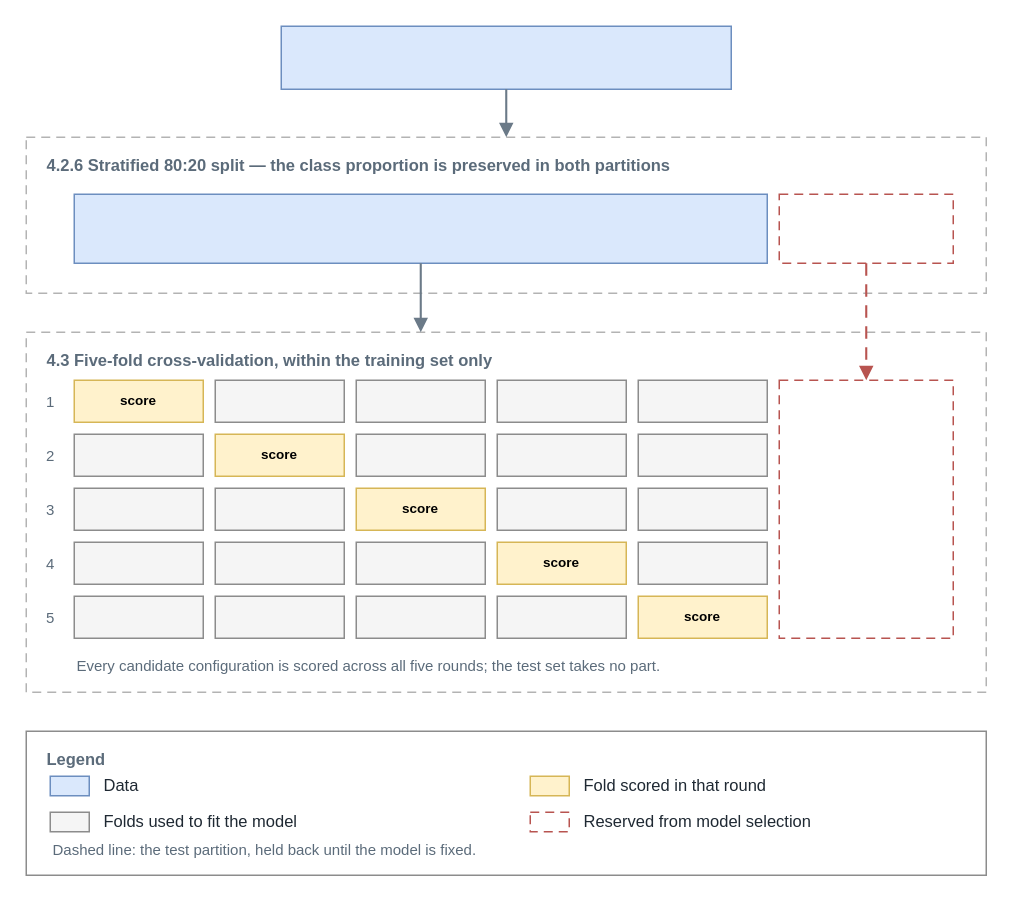
The diagram is 1013 pixels wide and 902 high, and some of its shapes have lost their labels. Here are the shapes that lost their labels. From the top down, the centre of each, then its label:
At (x=505, y=57): "Cleaned dataset after the steps in 4.2".
At (x=420, y=228): "Training set (80%) all model selection happens here".
At (x=865, y=228): "Test set (20%)".
At (x=865, y=508): "reserved until 5.2.2".
